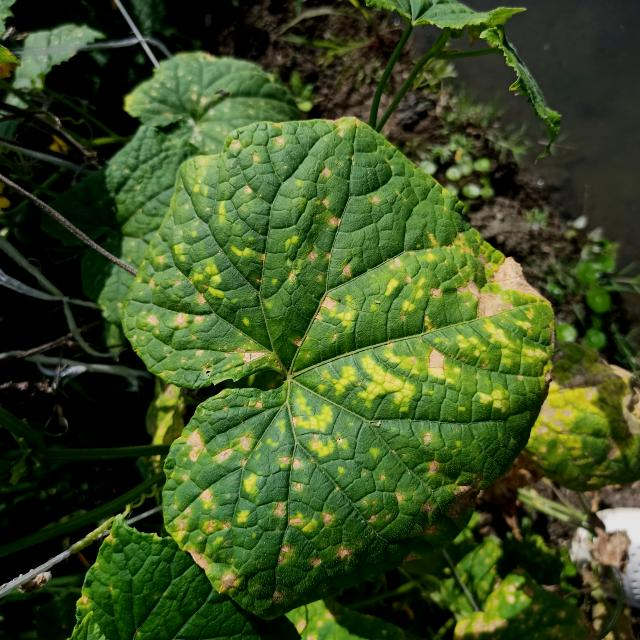disease_cucumber: (156, 140, 549, 602)
